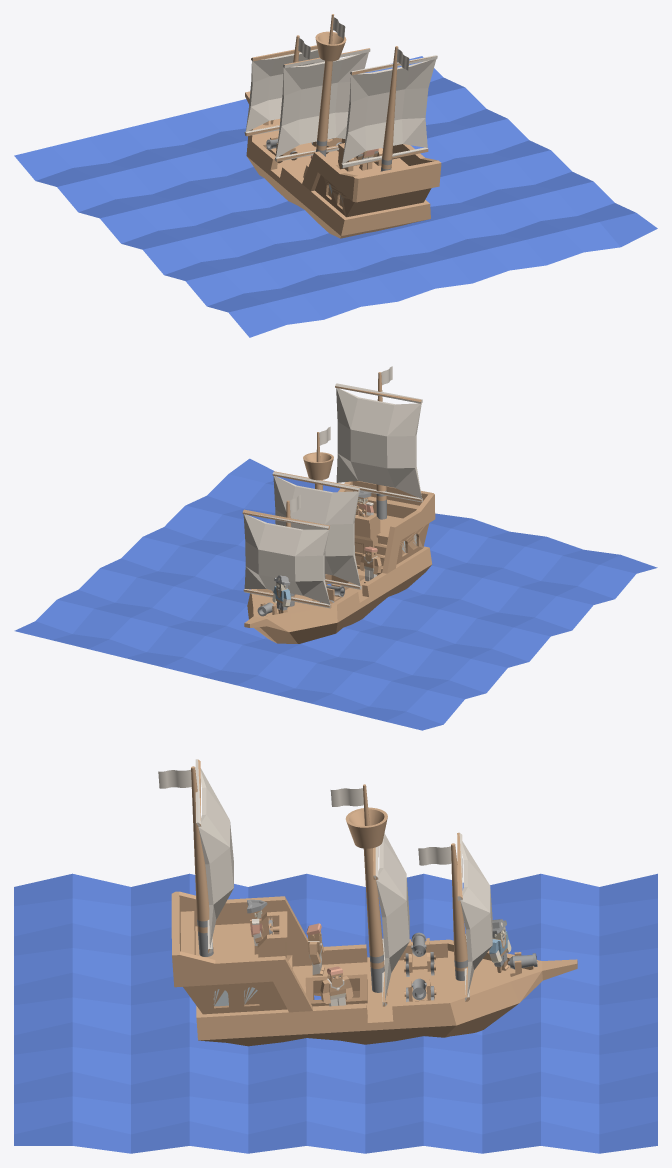
The model's file is pirate.gltf.
3 views of the same model, one above another, from view 1: azimuth 30°, elevation 25°; view 2: azimuth 150°, elevation 25°; view 3: azimuth 270°, elevation 25° (orthographic). The views are drawn at different scales.
Visible parts, largest first — view 1: Plane, pirate_officer; view 2: Plane, pirate_officer; view 3: Plane, pirate_officer.
Part boxes in pixels (<box>): Plane: <box>14,56,657,337</box>; pirate_officer: <box>244,14,441,238</box>; Plane: <box>14,458,657,730</box>; pirate_officer: <box>242,366,435,643</box>; Plane: <box>14,873,657,1153</box>; pirate_officer: <box>158,759,577,1046</box>.
Bounding box in the file's own units: 129 × 65.36 × 129.
